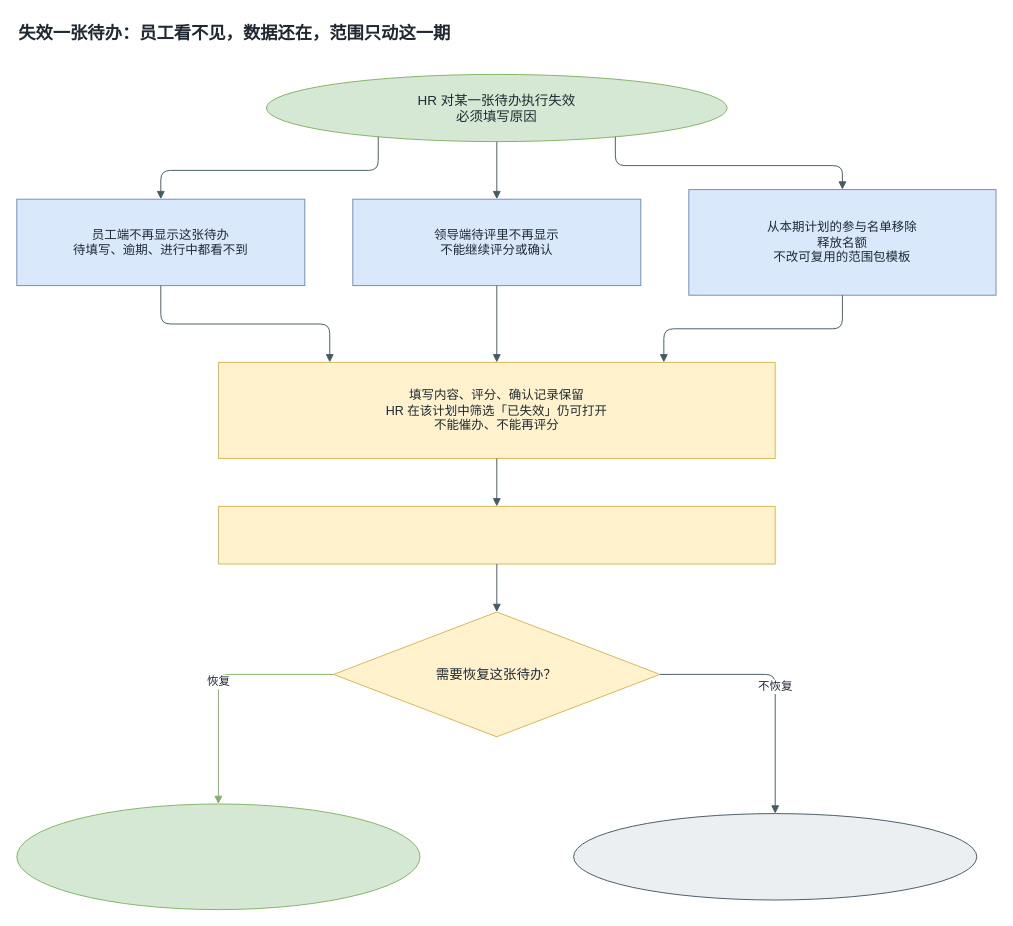
This 1013x926 diagram has some shape labels left out. Each missing label, with the centre of its shape:
不计入本期完成率、催办和奖金范围: the point at 496,534
保持失效 员工和领导继续看不到: the point at 775,856
恢复 重新进入本期参与名单 按失效前的进度，员工和领导再次可见: the point at 218,856
